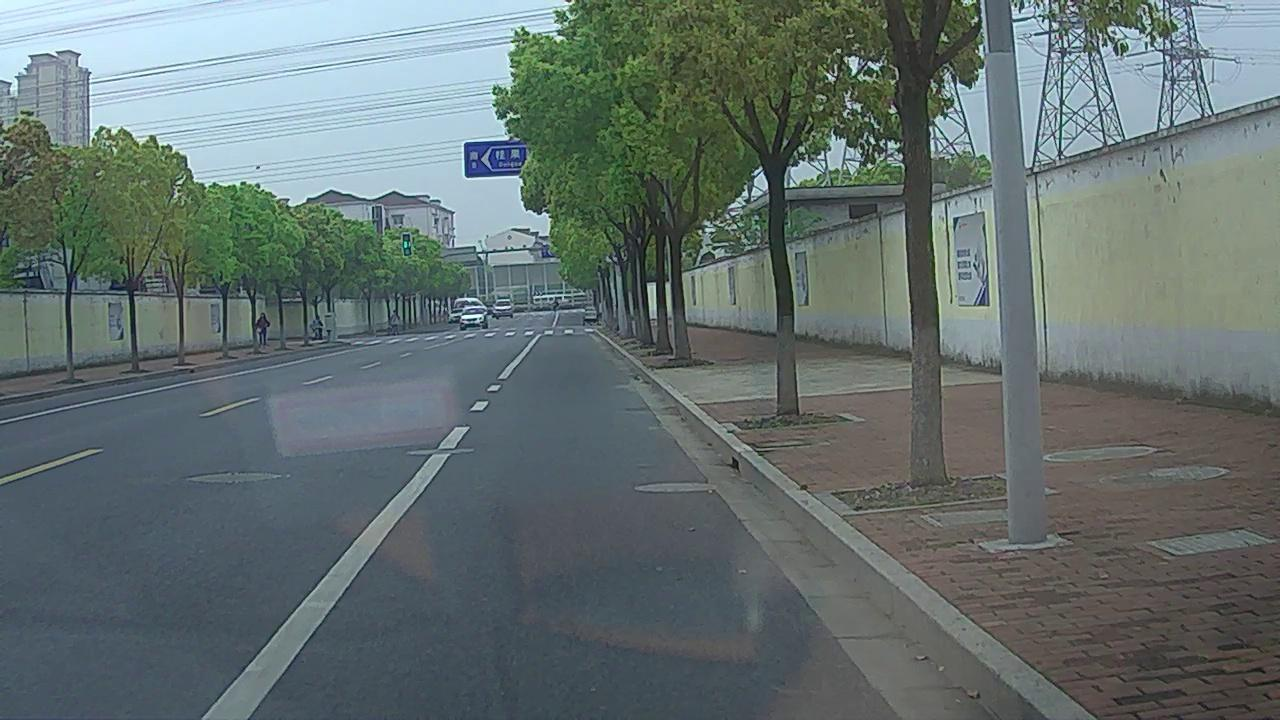traffic_light: (403, 234, 411, 256)
